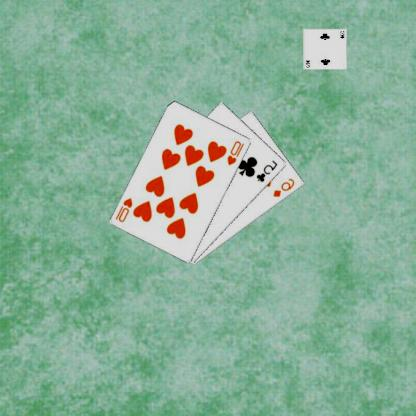10H: (114, 195, 136, 223), (226, 138, 247, 166)
5C: (255, 157, 281, 184)
6D: (272, 176, 298, 198)
